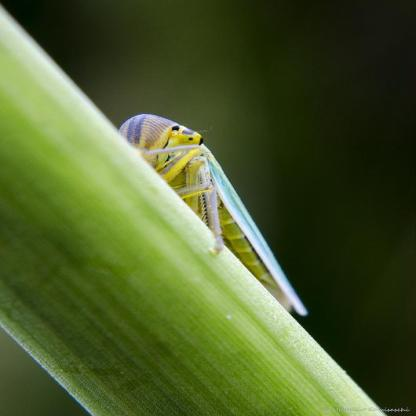Green-Leafhopper: (102, 114, 320, 316)
